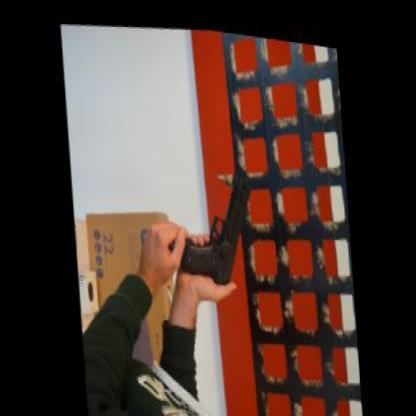pistol: (172, 157, 258, 285)
